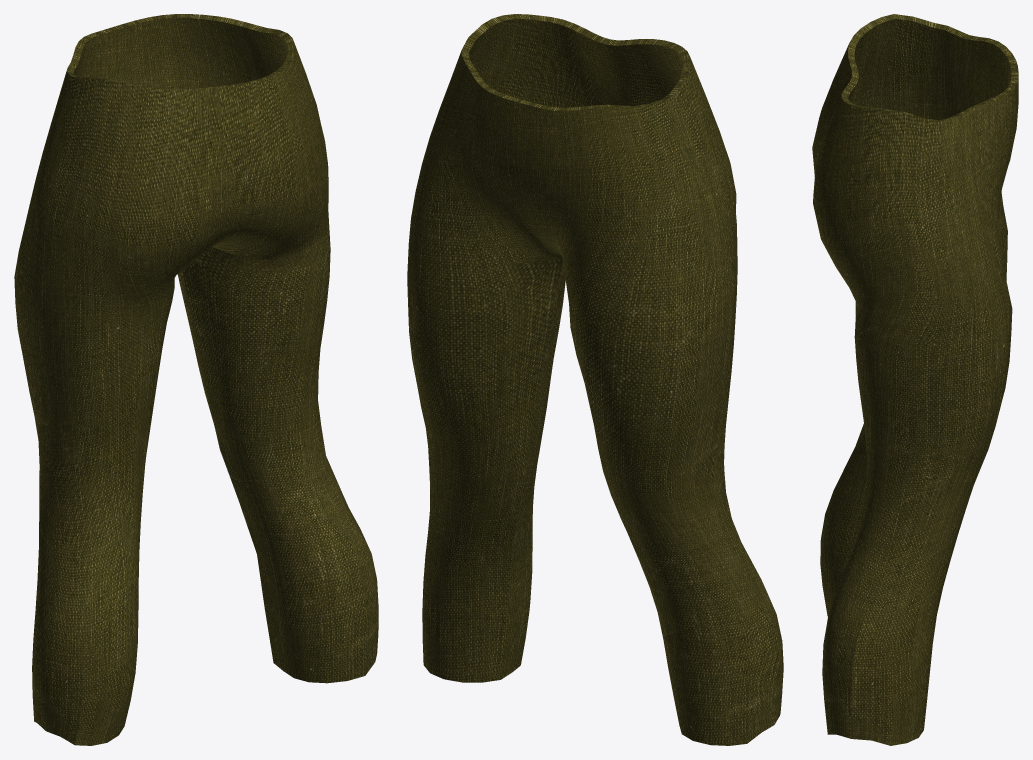
Rendered from Pants.fbx.
The picture shows the model from 3 angles, left to right: view 1: azimuth 30°, elevation 25°; view 2: azimuth 150°, elevation 25°; view 3: azimuth 270°, elevation 25°; orthographic projection. The views are drawn at different scales.
Visible parts, largest first — view 1: Female_SimpleTrousers; view 2: Female_SimpleTrousers; view 3: Female_SimpleTrousers.
Boxes of the visible parts, x1,y1,x2,y2 form: Female_SimpleTrousers: [14, 14, 378, 745]; Female_SimpleTrousers: [407, 14, 783, 745]; Female_SimpleTrousers: [812, 14, 1018, 745].
Size of the model in its own units: 0.507 by 0.2849 by 0.9352.
